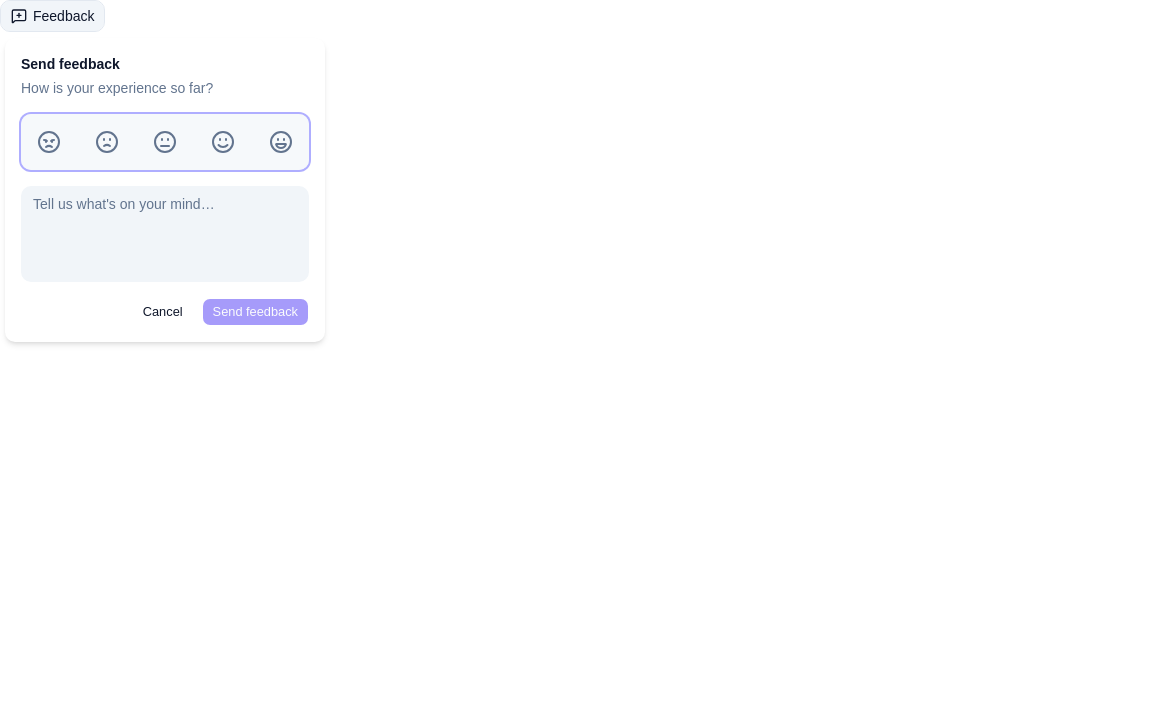
Test case: PopoverFeedback › keeps submit disabled until required fields are filled
The width and height of the screenshot is (1152, 720).
Expected: the button "Send feedback" is disabled, [202,298,309,326]
Type "hi" into the text box with placeholder "Tell us what's on your mind…".
click(165, 234); type("hi")  # box [21,186,309,282]
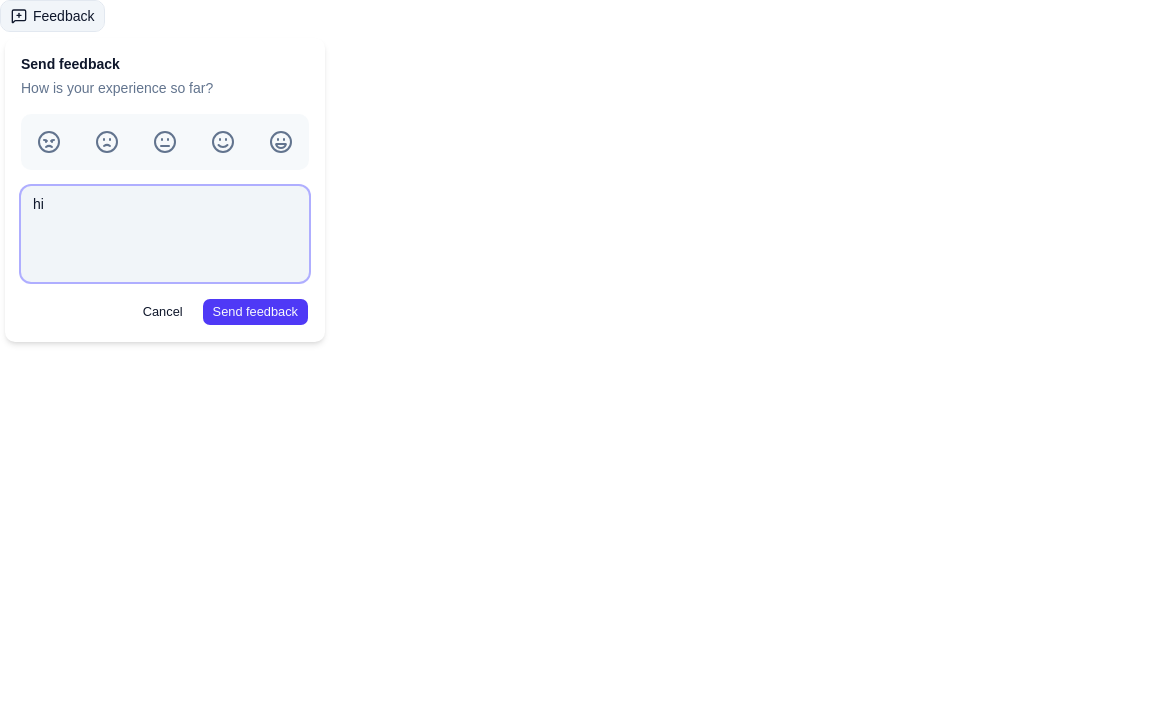
Expected: the button "Send feedback" is enabled, [202,298,309,326]
